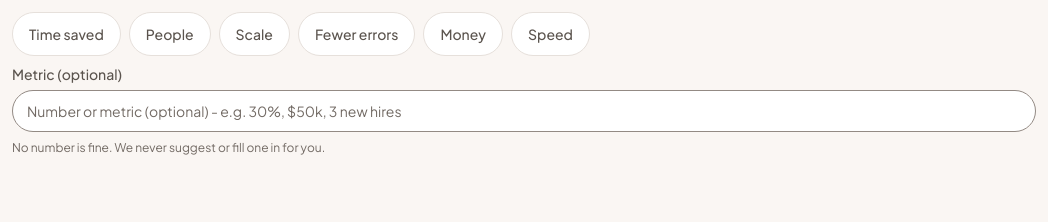
Test: MetricPrompts › never puts a digit in the metric field when a prompt is tapped
The width and height of the screenshot is (1048, 222).
Click the button "Time saved": (66, 34) [12,12,121,56]
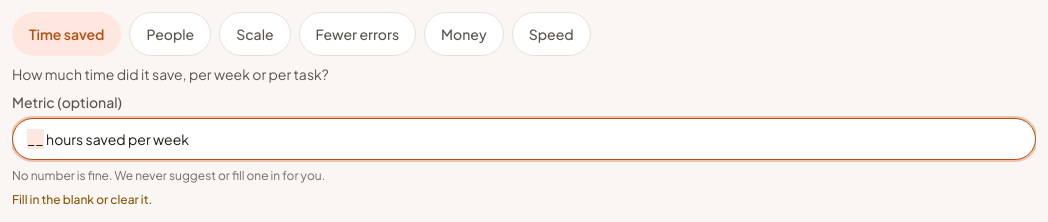
Expected: the text "How much time did it save, per week or per task?" is shown, [12,65,329,83]
Click the button "People": (170, 34) [129,12,211,56]
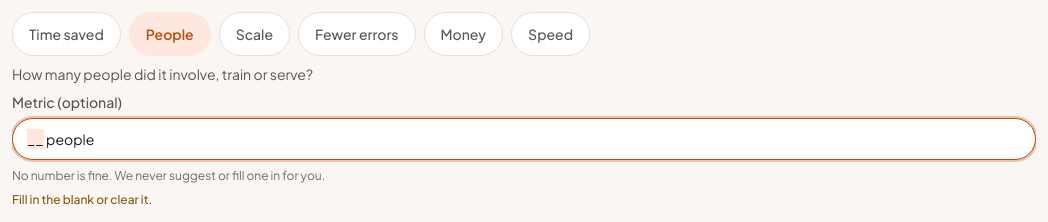
Expected: the text "How many people did it involve, train or serve?" is shown, [12,65,313,83]
Click the button "Scale": (254, 34) [219,12,290,56]
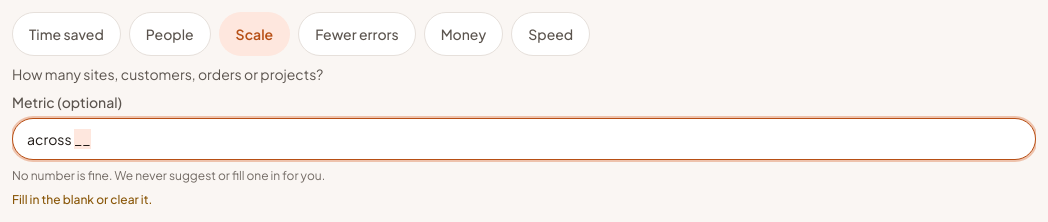
Expected: the text "How many sites, customers, orders or projects?" is shown, [12,65,323,83]
Click the button "Fewer errors": (357, 34) [298,12,416,56]
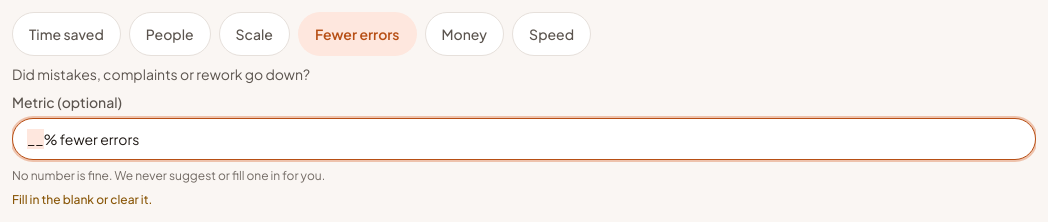
Expected: the text "Did mistakes, complaints or rework go down?" is shown, [12,65,310,83]
Click the button "Money": (464, 34) [424,12,504,56]
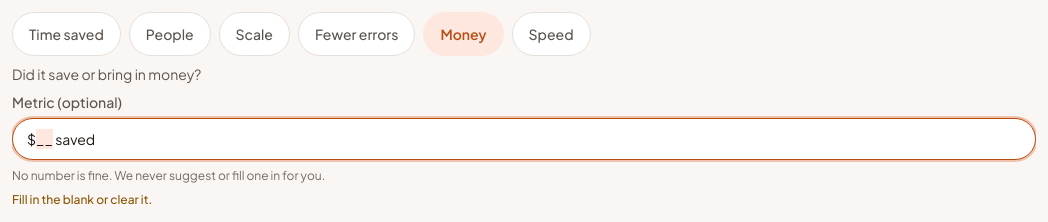
Expected: the text "Did it save or bring in money?" is shown, [12,65,201,83]
Click the button "Speed": (551, 34) [512,12,590,56]
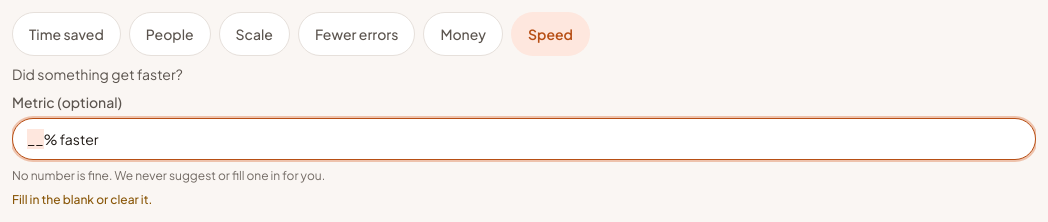
Expected: the text "Did something get faster?" is shown, [12,65,183,83]
